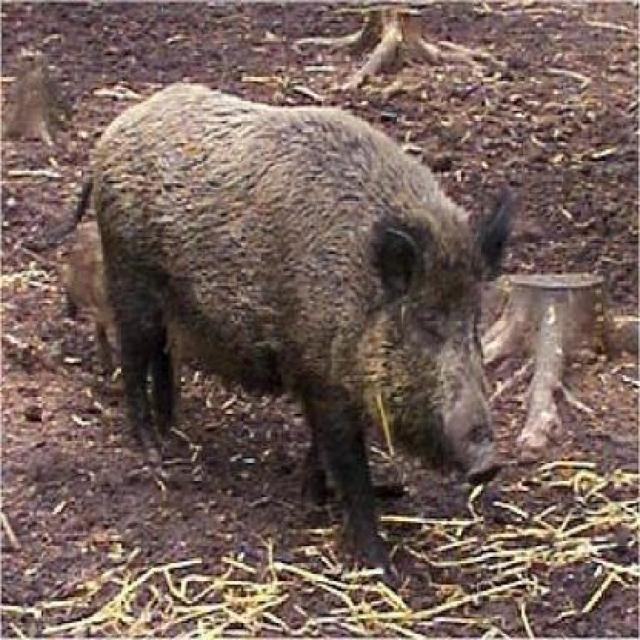Wild Boar: (21, 69, 530, 594)
